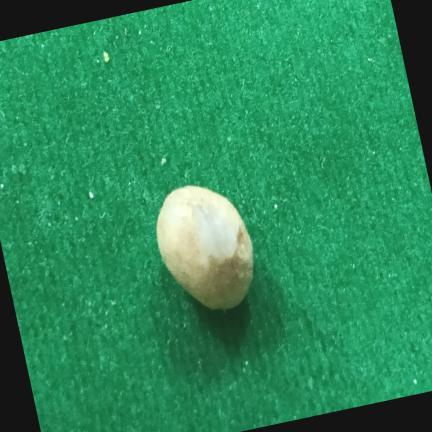cut: (156, 186, 253, 309)
